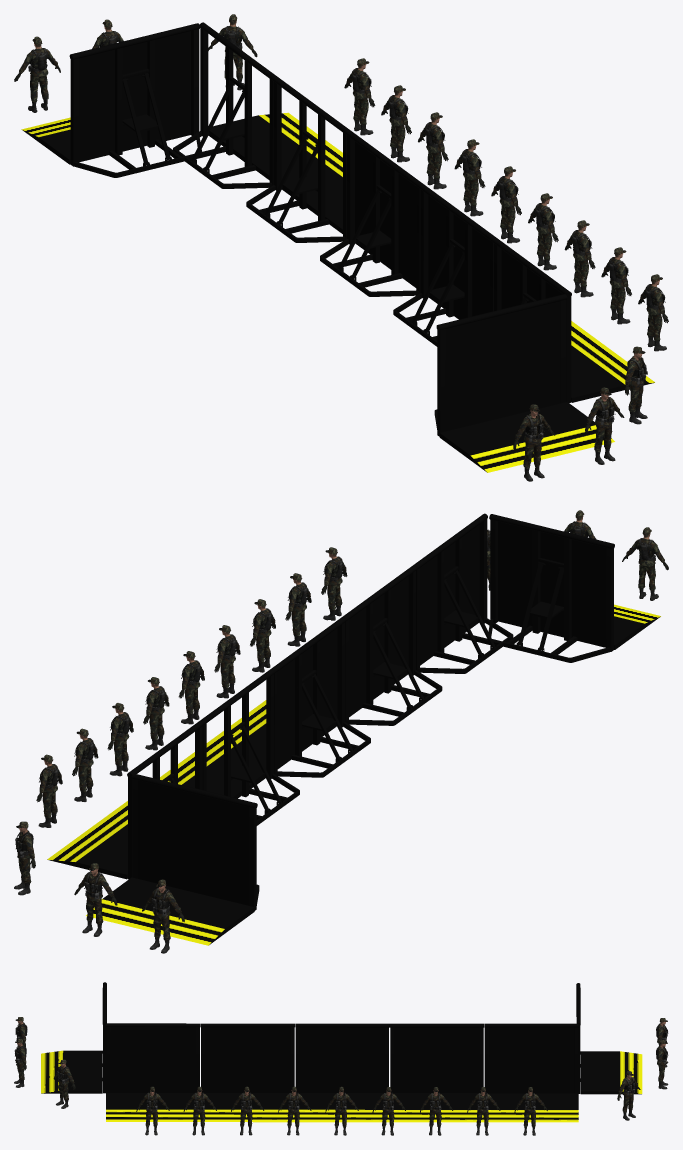
File: barricade_west.glb
3 renders of one model, top to bottom at view 1: azimuth 30°, elevation 25°; view 2: azimuth 150°, elevation 25°; view 3: azimuth 270°, elevation 25°, orthographic. The views are drawn at different scales.
Visible parts, largest first — view 1: Plane_0.005, Plane_0.006, Plane_0, Plane_0.004, Plane_0.001, Plane_0.003, Plane_0.002, Object_9.014, Object_9.013, Object_9.009, Object_9.003, Object_9.001 (+9 smaller); view 2: Plane_0.006, Plane_0.005, Plane_0, Plane_0.002, Plane_0.001, Plane_0.003, Plane_0.004, Object_9.010, Object_9.009, Object_9.014, Object_9, Object_9.005 (+8 smaller); view 3: Plane_0.004, Plane_0.002, Plane_0, Plane_0.003, Plane_0.001, Plane_0.006, Plane_0.005, Object_9.002, Object_9.003, Object_9.004, Object_9.005, Object_9.008 (+10 smaller).
Boxes of the visible parts, x1=… form: Plane_0.005: x1=434, y1=294, x2=614, y2=472; Plane_0.006: x1=21, y1=23, x2=201, y2=177; Plane_0: x1=320, y1=130, x2=423, y2=296; Plane_0.004: x1=173, y1=22, x2=342, y2=188; Plane_0.001: x1=393, y1=184, x2=581, y2=346; Plane_0.003: x1=246, y1=76, x2=350, y2=242; Plane_0.002: x1=493, y1=238, x2=654, y2=402; Object_9.014: x1=513, y1=404, x2=555, y2=481; Object_9.013: x1=585, y1=387, x2=624, y2=464; Object_9.009: x1=14, y1=36, x2=60, y2=112; Object_9.003: x1=564, y1=220, x2=595, y2=297; Object_9.001: x1=344, y1=58, x2=375, y2=135; Plane_0.006: x1=86, y1=773, x2=259, y2=945; Plane_0.005: x1=488, y1=514, x2=660, y2=662; Plane_0: x1=189, y1=617, x2=370, y2=777; Plane_0.002: x1=413, y1=513, x2=513, y2=673; Plane_0.001: x1=260, y1=565, x2=442, y2=725; Plane_0.003: x1=118, y1=669, x2=299, y2=825; Plane_0.004: x1=47, y1=721, x2=203, y2=879; Object_9.010: x1=74, y1=863, x2=117, y2=936; Object_9.009: x1=142, y1=879, x2=184, y2=953; Object_9.014: x1=622, y1=527, x2=668, y2=600; Object_9: x1=321, y1=547, x2=347, y2=620; Object_9.005: x1=214, y1=625, x2=240, y2=698; Plane_0.004: x1=484, y1=1023, x2=578, y2=1122; Plane_0.002: x1=106, y1=1023, x2=200, y2=1121; Plane_0: x1=295, y1=1023, x2=389, y2=1122; Plane_0.003: x1=389, y1=1023, x2=483, y2=1122; Plane_0.001: x1=200, y1=1023, x2=294, y2=1122; Plane_0.006: x1=576, y1=983, x2=642, y2=1094; Plane_0.005: x1=41, y1=982, x2=106, y2=1093; Object_9.002: x1=420, y1=1087, x2=453, y2=1135; Object_9.003: x1=231, y1=1086, x2=264, y2=1135; Object_9.004: x1=183, y1=1086, x2=216, y2=1135; Object_9.005: x1=278, y1=1086, x2=311, y2=1135; Object_9.008: x1=467, y1=1087, x2=500, y2=1135.
Size of the model in its own units: 6.2 by 2.51 by 20.79.
Materials: 141 (134 with a texture image).
